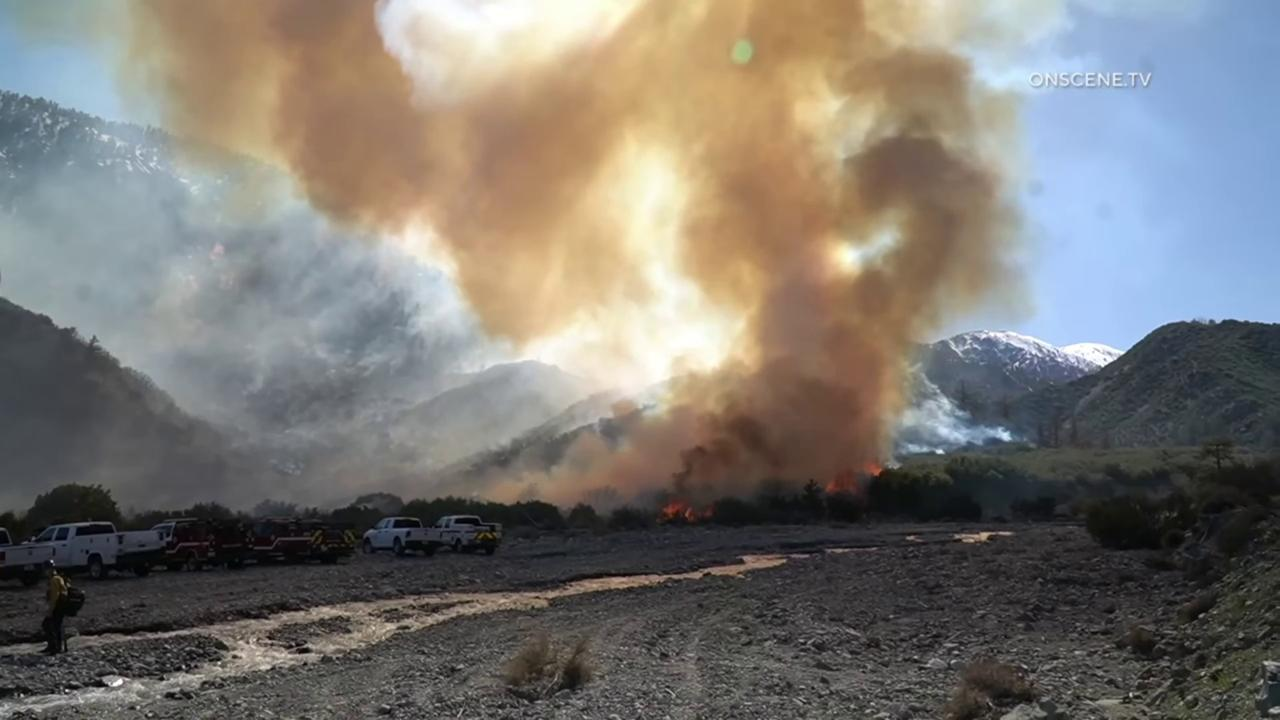fire: (661, 501, 712, 522), (866, 463, 882, 477), (824, 479, 836, 493)
smoke: (0, 0, 1039, 539)
